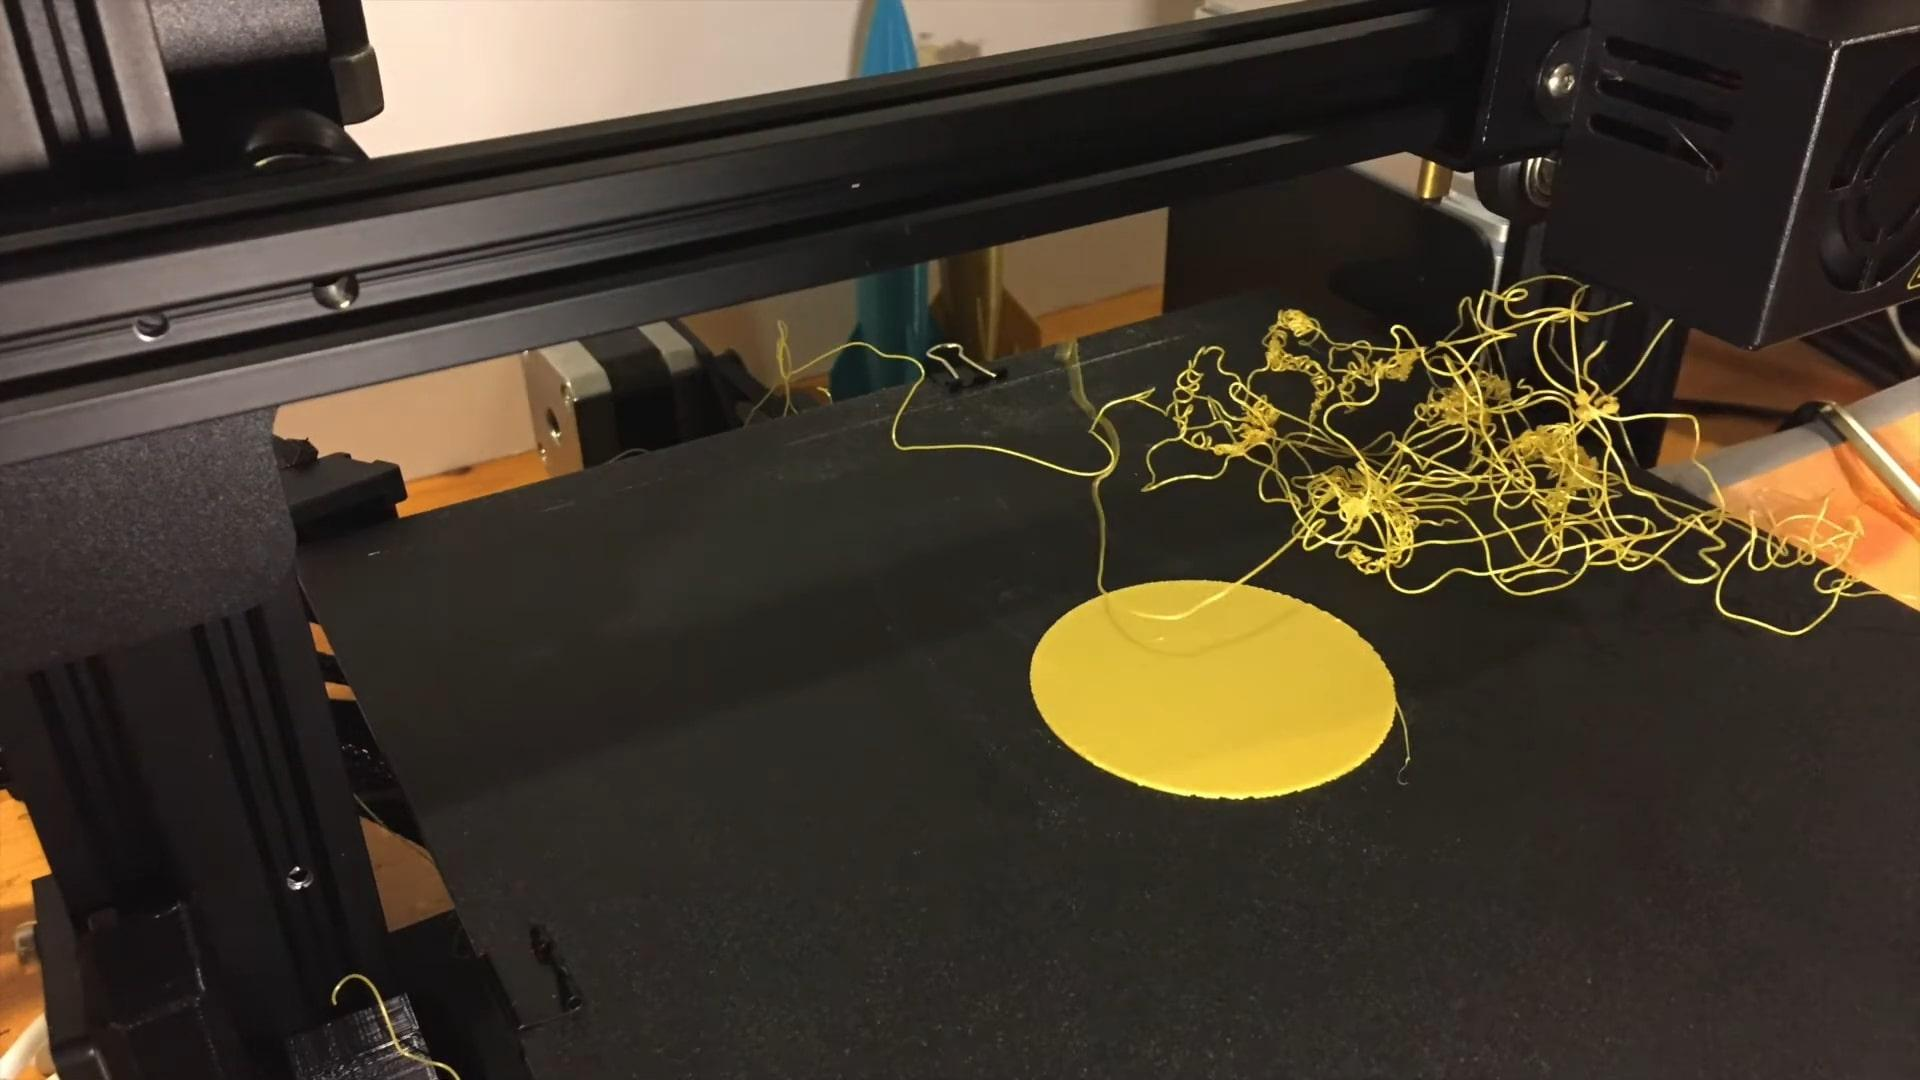Printing-Artifact: (1143, 222, 1811, 633)
